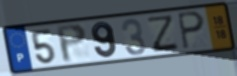3: (121, 17, 147, 57)
5: (29, 27, 59, 64)
9: (90, 20, 119, 60)
P: (54, 22, 88, 65), (175, 10, 207, 52)
Z: (147, 13, 180, 54)
